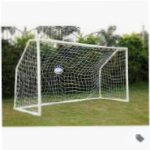goals: (12, 37, 130, 116)
